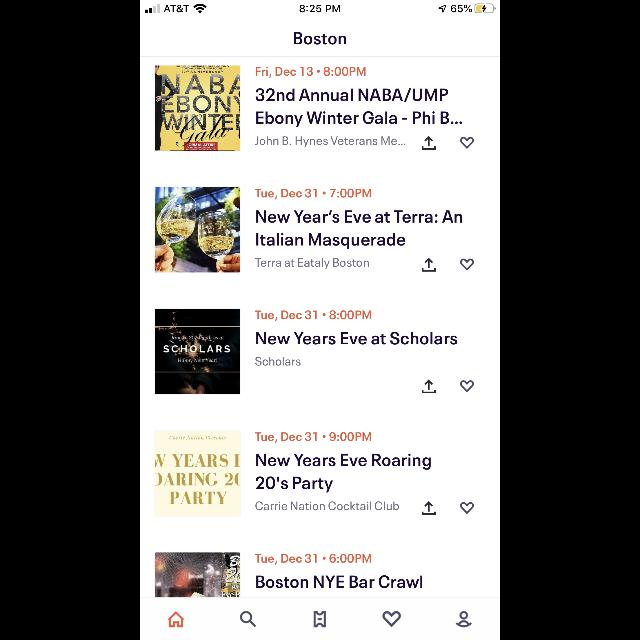icon: (383, 610, 401, 628), (240, 610, 256, 628), (456, 610, 472, 628), (168, 612, 185, 628), (314, 610, 326, 628), (422, 136, 436, 150), (460, 136, 474, 150), (422, 258, 436, 272), (460, 258, 474, 272), (422, 379, 436, 393), (422, 501, 436, 515), (460, 380, 474, 392), (460, 502, 474, 514)
image: (154, 429, 242, 516), (154, 186, 240, 272), (155, 309, 241, 395), (156, 65, 240, 151), (155, 552, 241, 598)
text: (256, 88, 462, 128), (256, 210, 462, 250), (255, 453, 430, 492), (256, 332, 458, 344), (256, 576, 422, 588), (254, 136, 406, 148), (255, 188, 371, 200), (255, 310, 371, 322), (255, 431, 371, 443), (255, 258, 369, 270), (256, 66, 366, 78), (255, 502, 399, 511), (255, 554, 371, 564), (294, 32, 346, 46), (255, 356, 301, 366)
uppertaskbar: (140, 0, 500, 14)
